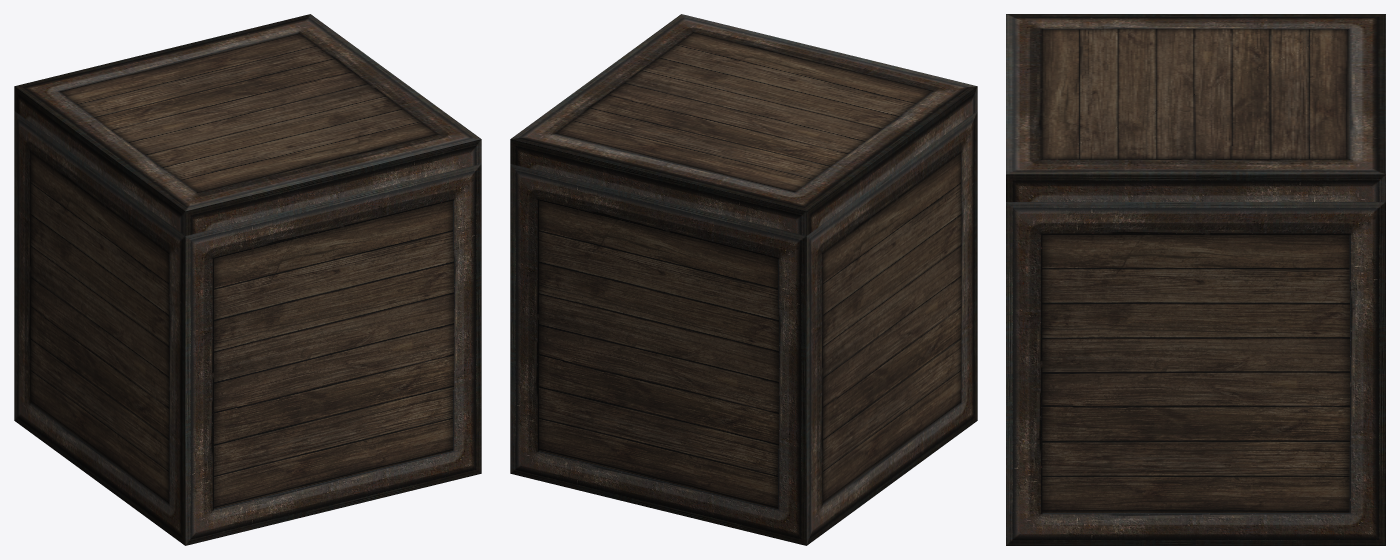
Rendered from CrateOpen.fbx.
3 views of the same model, side by side, from view 1: azimuth 30°, elevation 25°; view 2: azimuth 150°, elevation 25°; view 3: azimuth 270°, elevation 25° (orthographic). The views are drawn at different scales.
Parts seen in each view (by area): view 1: CratenewOpen, CratenewC; view 2: CratenewOpen, CratenewC; view 3: CratenewOpen, CratenewC.
Boxes of the visible parts, <box> form: CratenewOpen: <box>14,111,481,545</box>; CratenewC: <box>14,14,481,235</box>; CratenewOpen: <box>510,111,977,545</box>; CratenewC: <box>510,14,977,235</box>; CratenewOpen: <box>1006,202,1385,545</box>; CratenewC: <box>1006,14,1385,201</box>.
Size of the model in its own units: 50 by 53.98 by 50.
